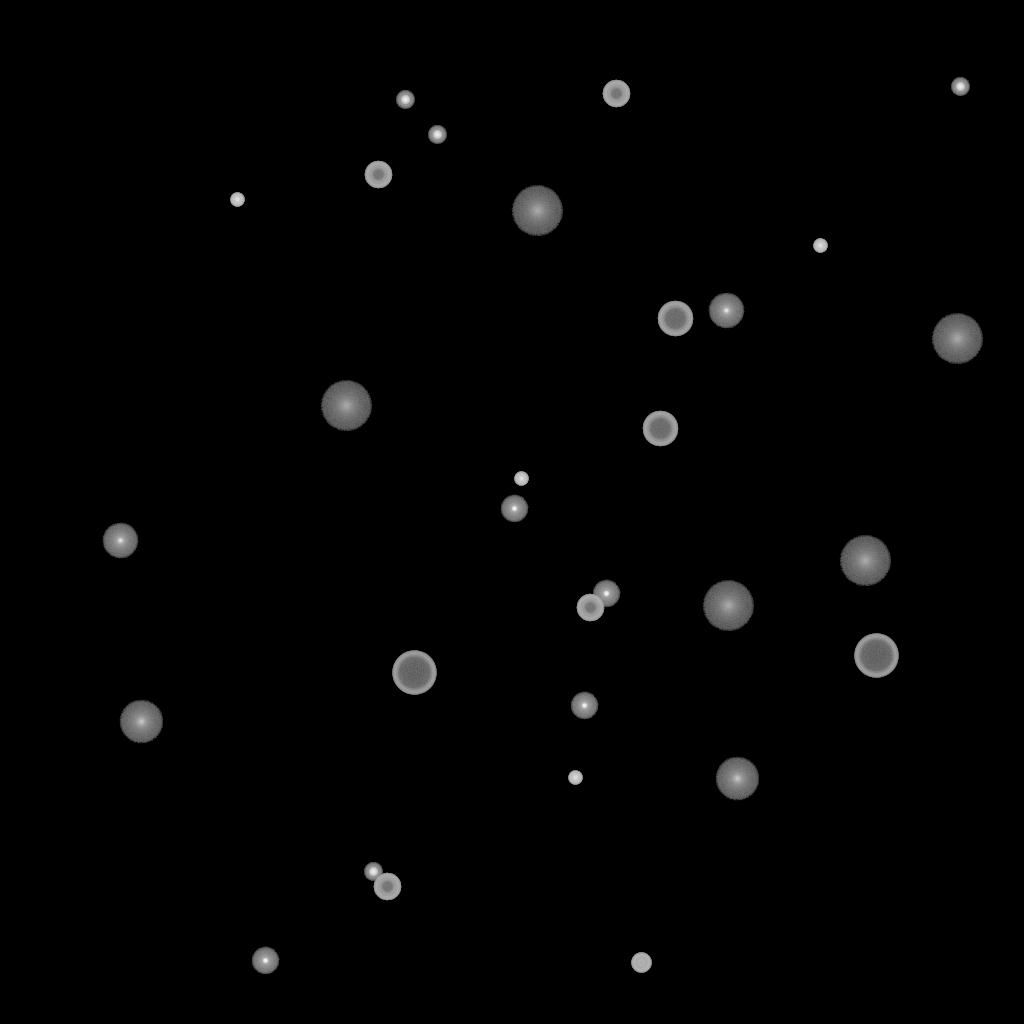depth:-10: (500, 495, 528, 523), (251, 947, 279, 975), (570, 692, 598, 720), (592, 580, 620, 608)
depth:-20: (428, 126, 446, 144), (364, 863, 382, 881), (951, 78, 969, 96), (396, 91, 414, 109)
depth:-30: (813, 239, 827, 253), (230, 193, 244, 207), (514, 472, 528, 486), (568, 771, 582, 785)
depth:-40: (631, 953, 651, 973)
depth:-50: (576, 594, 604, 622), (364, 161, 392, 189), (602, 80, 630, 108), (373, 873, 401, 901)
depth:-60: (642, 411, 678, 447), (657, 301, 693, 337)
depth:-70: (392, 651, 436, 695), (854, 634, 898, 678)
depth:0: (708, 293, 744, 329), (102, 523, 138, 559)
depth:10: (715, 757, 759, 801), (119, 700, 163, 744)
depth:20: (931, 314, 983, 364), (702, 581, 754, 631), (839, 536, 891, 586), (511, 186, 563, 236), (320, 381, 372, 431)
